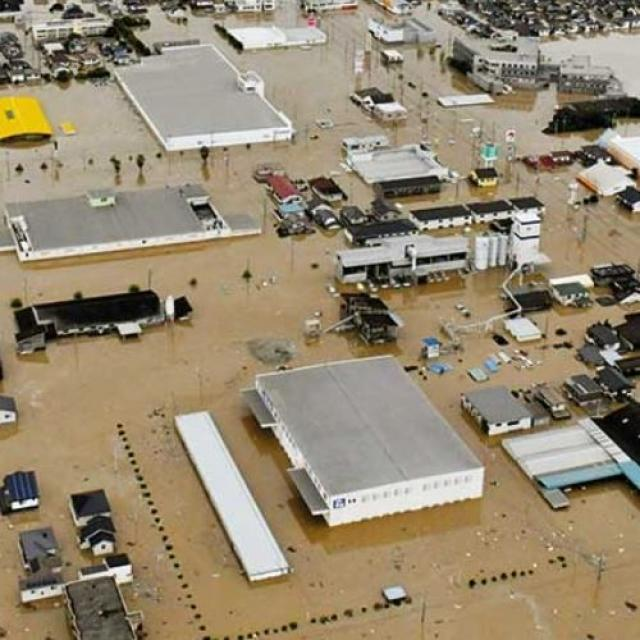flood: (0, 4, 640, 640), (396, 161, 640, 283)
house: (252, 344, 478, 537), (2, 176, 240, 295), (170, 402, 304, 576), (110, 48, 296, 154), (506, 419, 636, 506), (34, 284, 168, 346), (343, 228, 469, 292), (352, 141, 456, 198), (61, 578, 146, 638), (466, 44, 546, 90), (460, 388, 532, 436), (0, 92, 57, 149), (30, 7, 111, 40), (361, 90, 409, 124), (474, 162, 499, 188)
